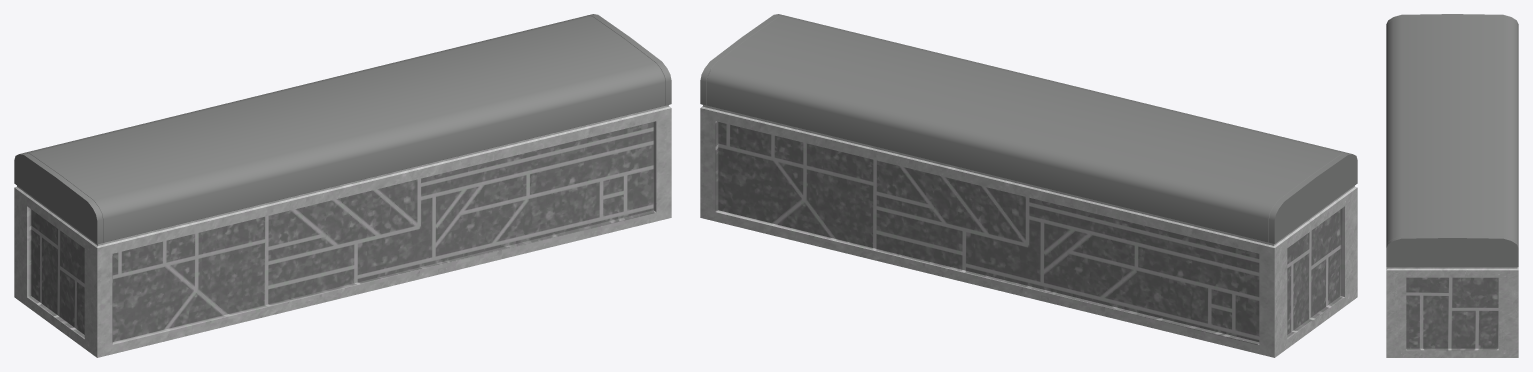
File: Chair5.fbx
The picture shows the model from 3 angles, left to right: view 1: azimuth 30°, elevation 25°; view 2: azimuth 150°, elevation 25°; view 3: azimuth 270°, elevation 25°; orthographic projection. The views are drawn at different scales.
Parts seen in each view (by area): view 1: SM_Couch_Rectangle; view 2: SM_Couch_Rectangle; view 3: SM_Couch_Rectangle.
Boxes of the visible parts, <box> form: SM_Couch_Rectangle: <box>14,14,671,357</box>; SM_Couch_Rectangle: <box>700,14,1357,357</box>; SM_Couch_Rectangle: <box>1386,14,1518,357</box>.
Bounding box in the file's own units: 256 × 64 × 64.
